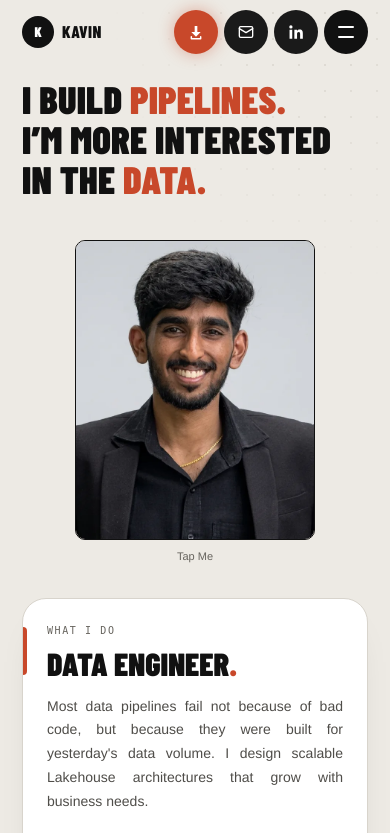
it: <App /> › opens and closes the mobile menu with proper aria state
Click the button named "Open menu" at (346, 32), box top-left (324, 10), bottom-right (368, 54)
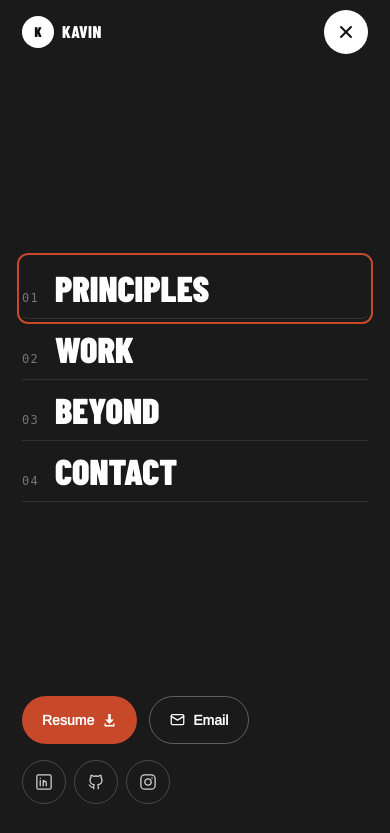
Check: the button named "Close menu" is expanded, box top-left (324, 10), bottom-right (368, 54)
Press Escape
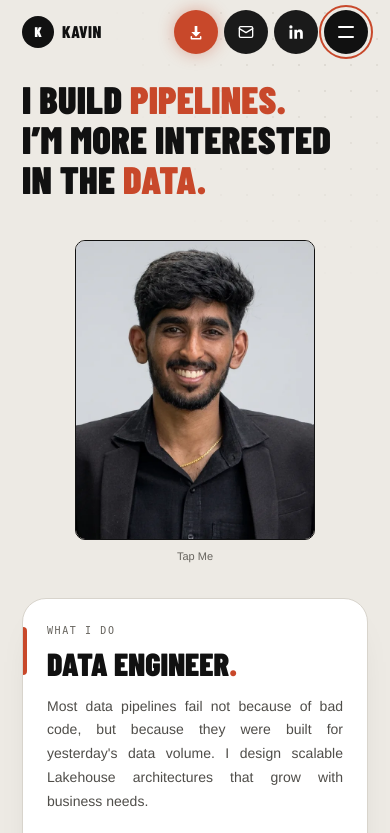
Check: the button named "Open menu" is collapsed, box top-left (324, 10), bottom-right (368, 54)
